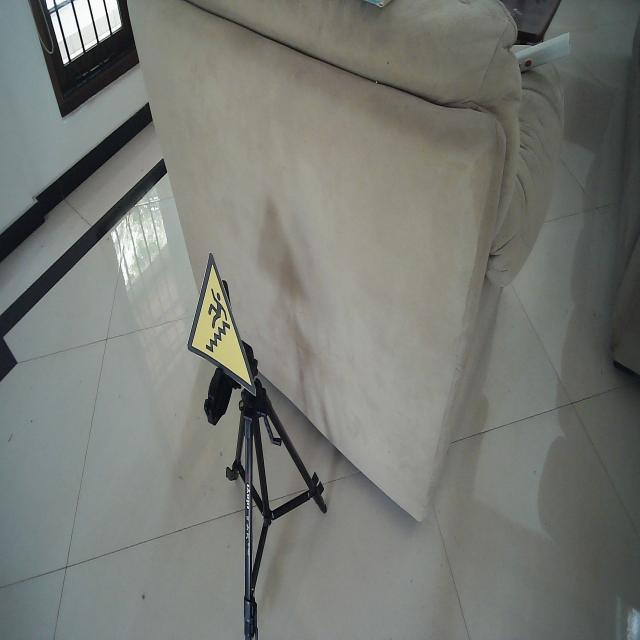stairs: (185, 250, 259, 400)
